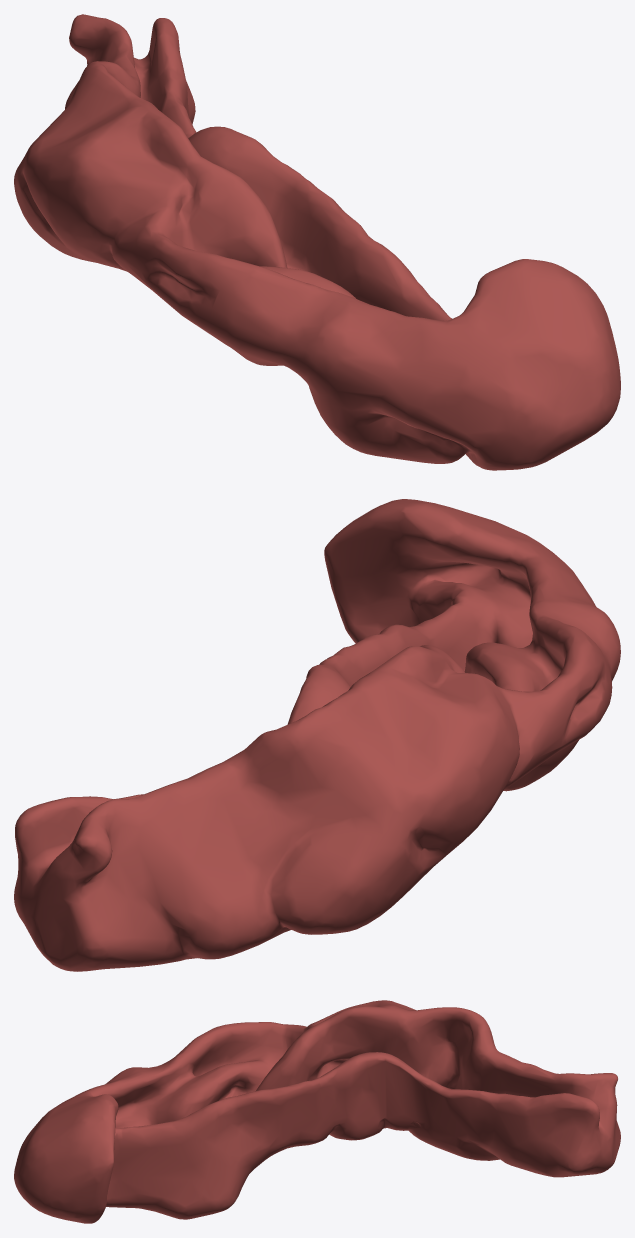
The model's file is FMA72687.glb.
The picture shows the model from 3 angles, top to bottom: view 1: azimuth 30°, elevation 25°; view 2: azimuth 150°, elevation 25°; view 3: azimuth 270°, elevation 25°; orthographic projection. The views are drawn at different scales.
Parts seen in each view (by area): view 1: FMA72687; view 2: FMA72687; view 3: FMA72687.
Part boxes in pixels (box(x1,y1,x2,y2)): FMA72687: box(14, 14, 620, 470); FMA72687: box(14, 499, 620, 971); FMA72687: box(14, 1000, 620, 1223).
Size of the model in its own units: 0.0415 by 0.028 by 0.0908.
